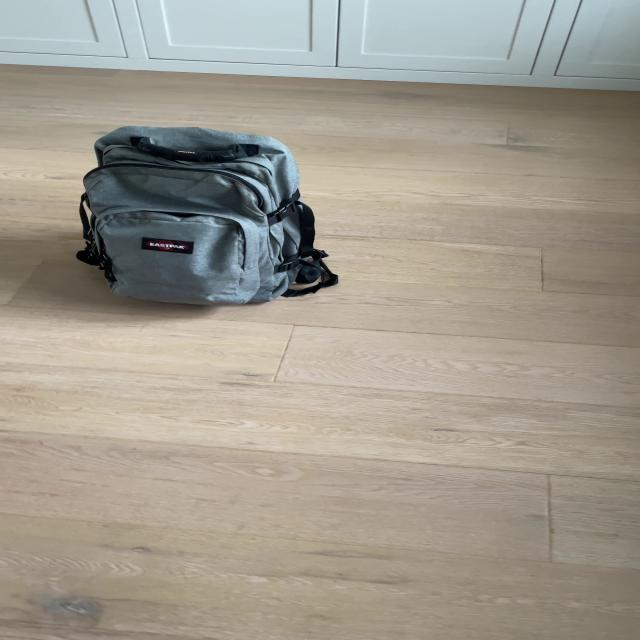backpack: (66, 116, 340, 311)
